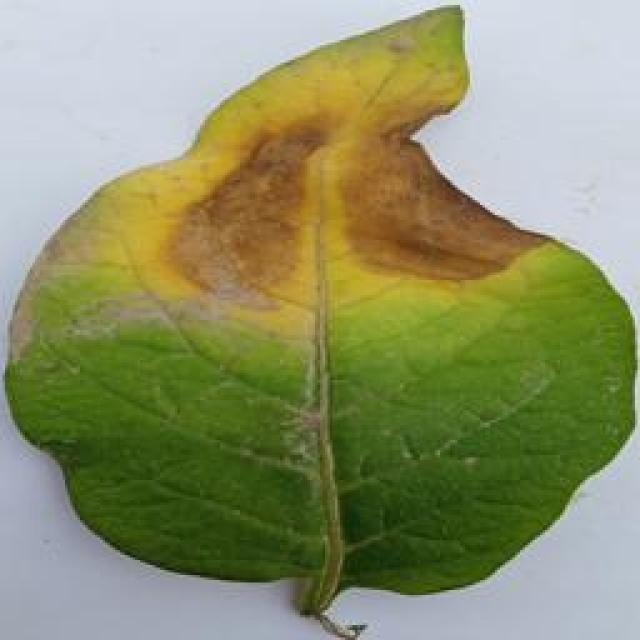Potato_Late_Blight: (9, 10, 626, 628)
